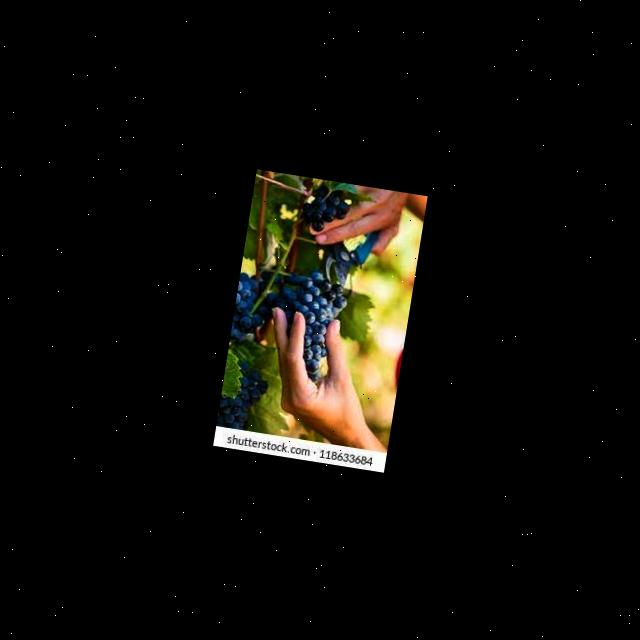grape: (225, 257, 351, 384), (216, 356, 271, 431), (298, 181, 352, 235)
